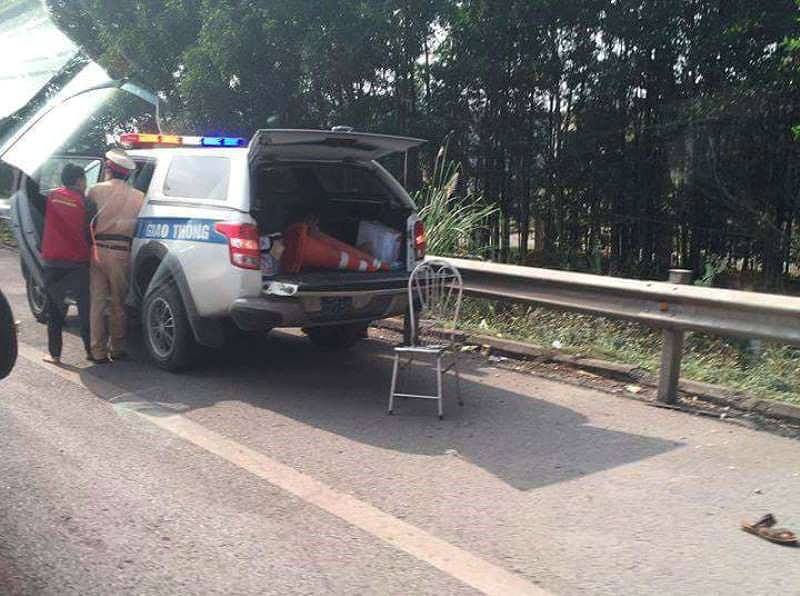police: (89, 147, 147, 369)
